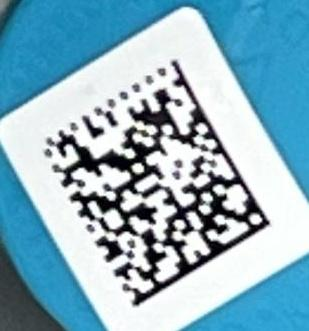datamatrix: (42, 61, 272, 308)
